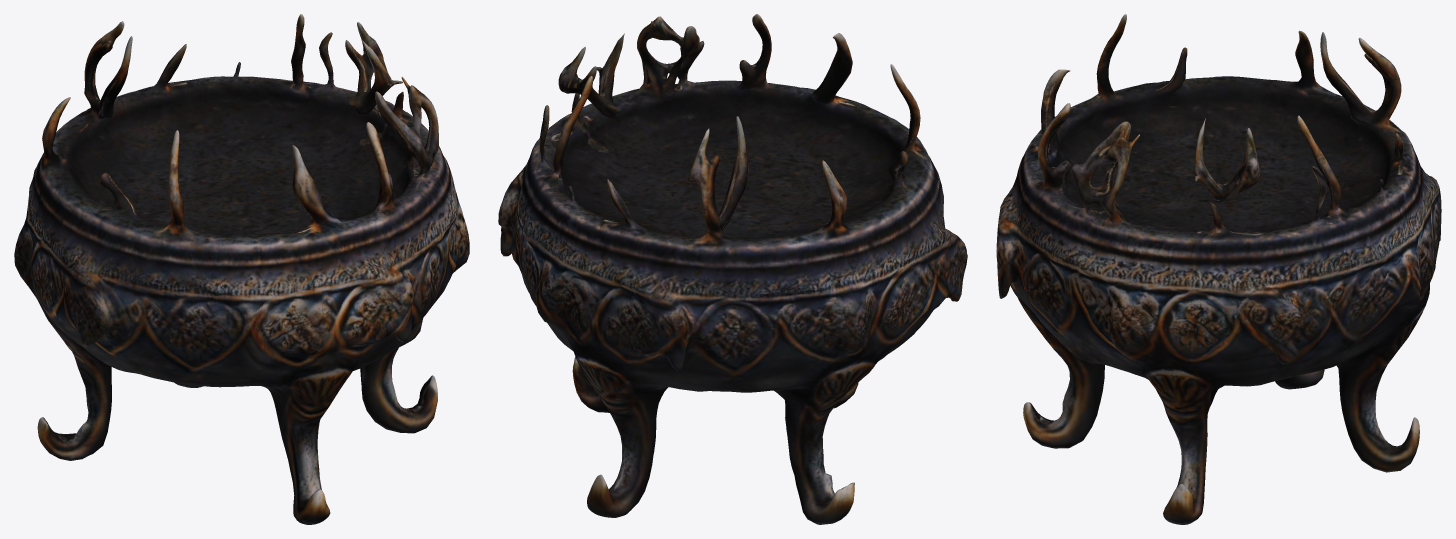
File: Brazier 2.fbx
3 views of the same model, side by side, from view 1: azimuth 30°, elevation 25°; view 2: azimuth 150°, elevation 25°; view 3: azimuth 270°, elevation 25° (orthographic).
Parts seen in each view (by area): view 1: mesh; view 2: mesh; view 3: mesh.
Boxes of the visible parts, x1,y1,x2,y2 form: mesh: [14, 14, 469, 524]; mesh: [498, 14, 967, 524]; mesh: [996, 14, 1441, 524].
Bounding box in the file's own units: 99.78 × 97.28 × 99.78.
